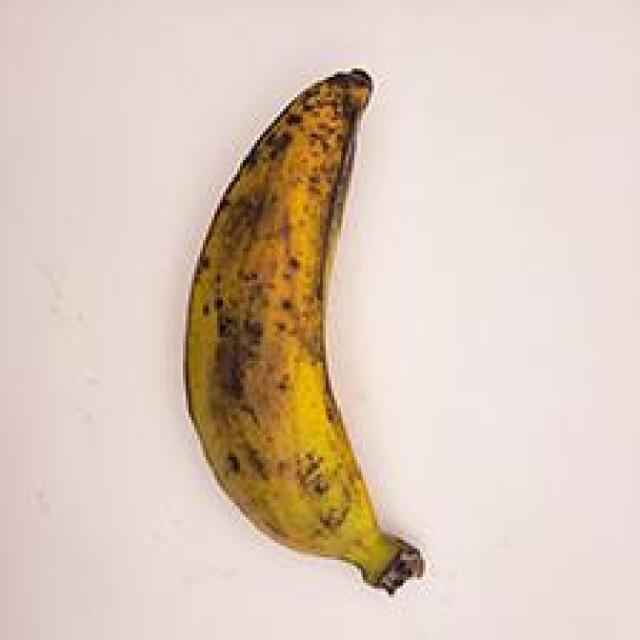Overripe: (142, 51, 480, 603)
